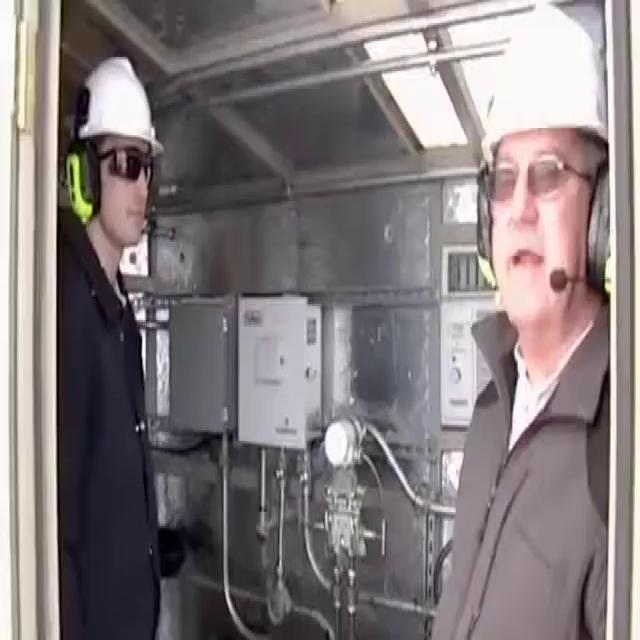earmuff: (64, 130, 104, 231), (472, 166, 501, 294)
glasses: (480, 151, 600, 210), (98, 140, 158, 188)
helmet: (479, 0, 616, 177), (66, 43, 166, 167)
